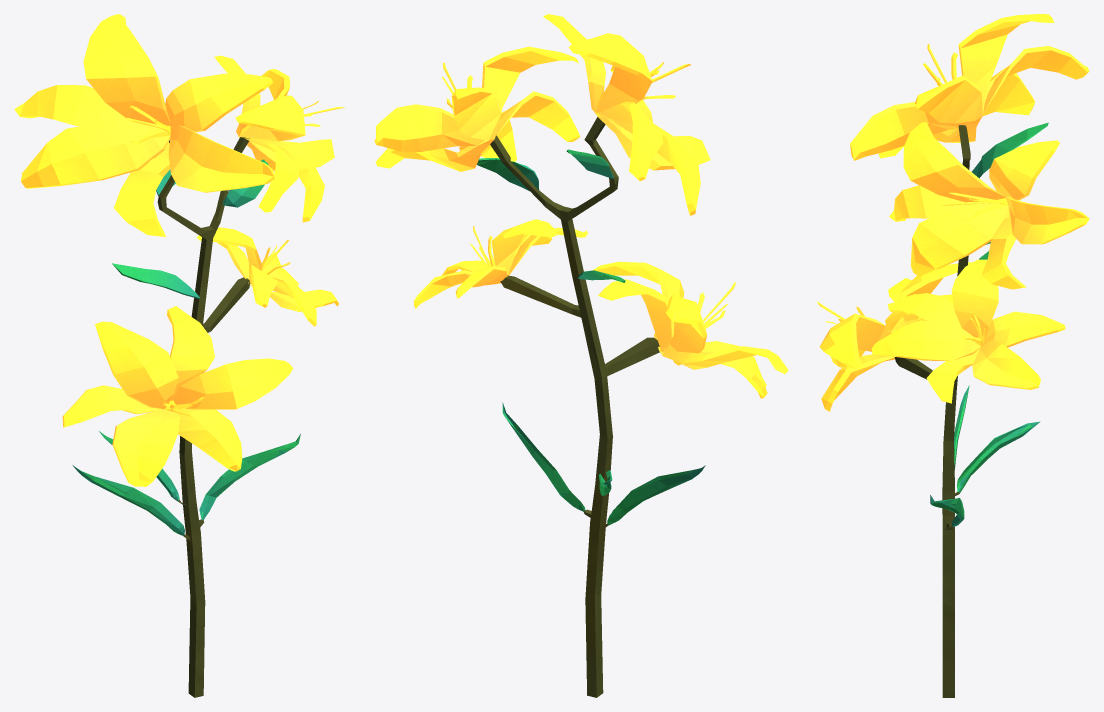
The model's file is CheckPoint_Unlocked.glb.
3 renders of one model, left to right at view 1: azimuth 30°, elevation 25°; view 2: azimuth 150°, elevation 25°; view 3: azimuth 270°, elevation 25°, orthographic. The views are drawn at different scales.
Visible parts, largest first — view 1: Petal, Stem; view 2: Petal, Stem; view 3: Petal, Stem.
Part boxes in pixels (x1,y1,x2,y2): Petal: [14, 14, 345, 486]; Stem: [72, 137, 300, 697]; Petal: [374, 14, 788, 398]; Stem: [477, 117, 705, 697]; Petal: [817, 14, 1089, 411]; Stem: [894, 122, 1048, 697].
Bounding box in the file's own units: 6.62 × 12.65 × 4.72.
3 materials, 3 textured.
